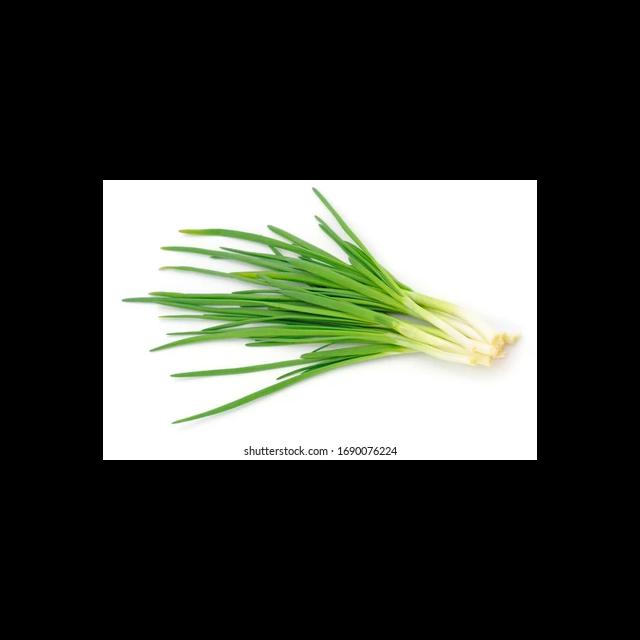green_onion: (121, 181, 530, 418)
